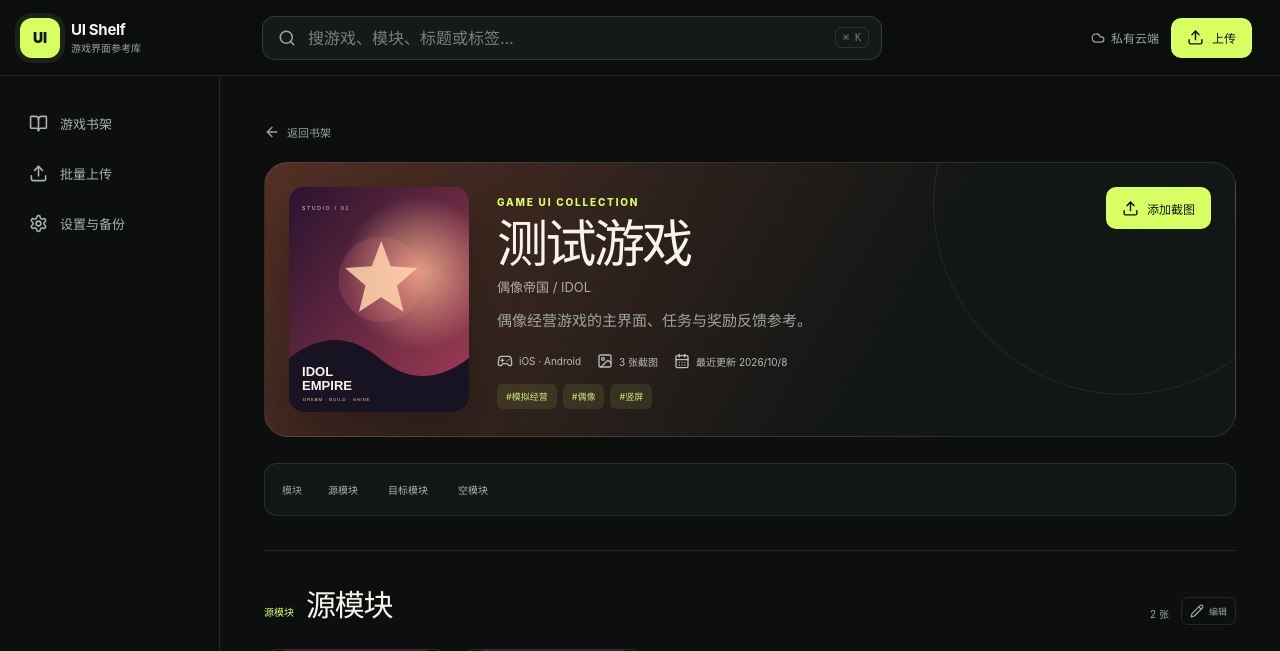
Test case: game image management › shares the mutation lock with metadata saving and releases it after failure
Click the button with aria-label "编辑 源模块模块": point(1208, 611) [1181, 597, 1236, 625]
(page scrolled)
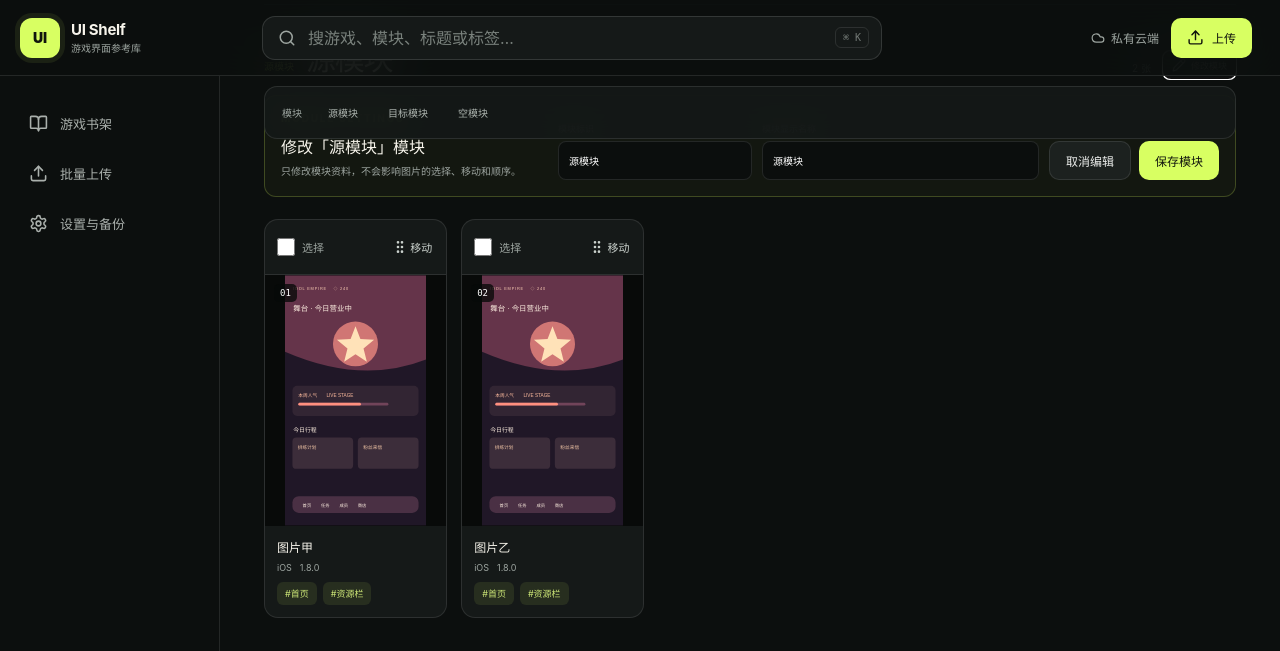
Click the button named "查看 图片甲": point(356, 400) [265, 274, 446, 526]
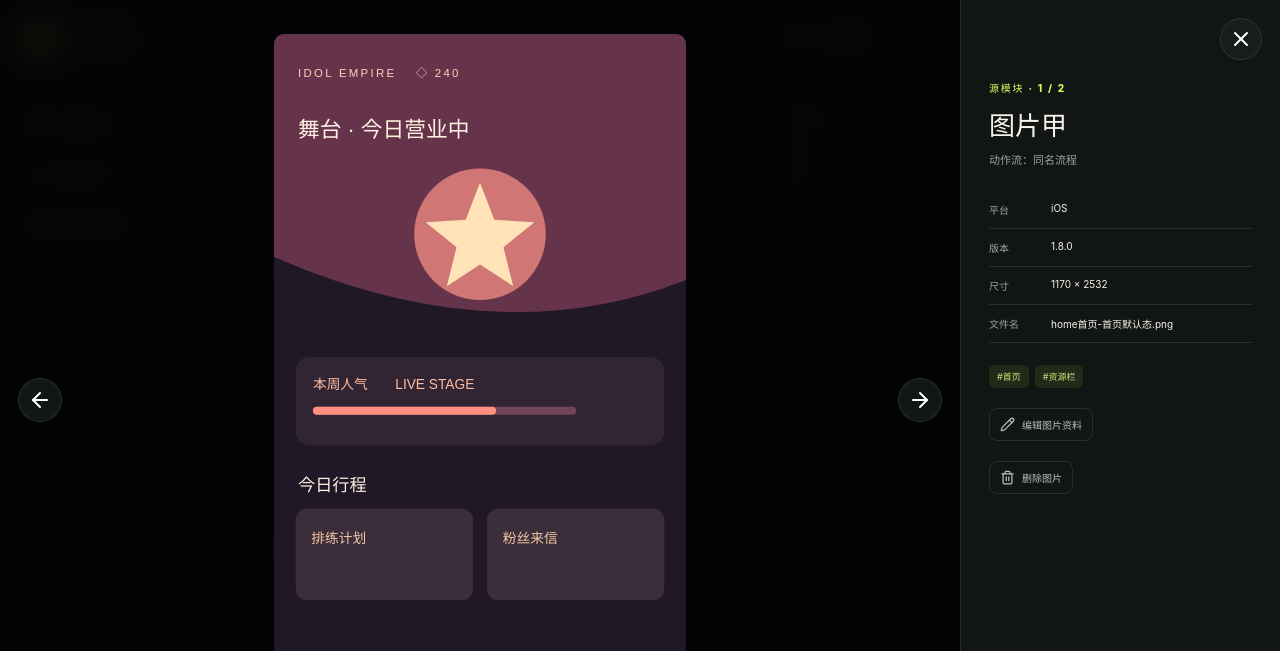
Click the button "编辑图片资料": point(1041, 424) [989, 408, 1093, 441]
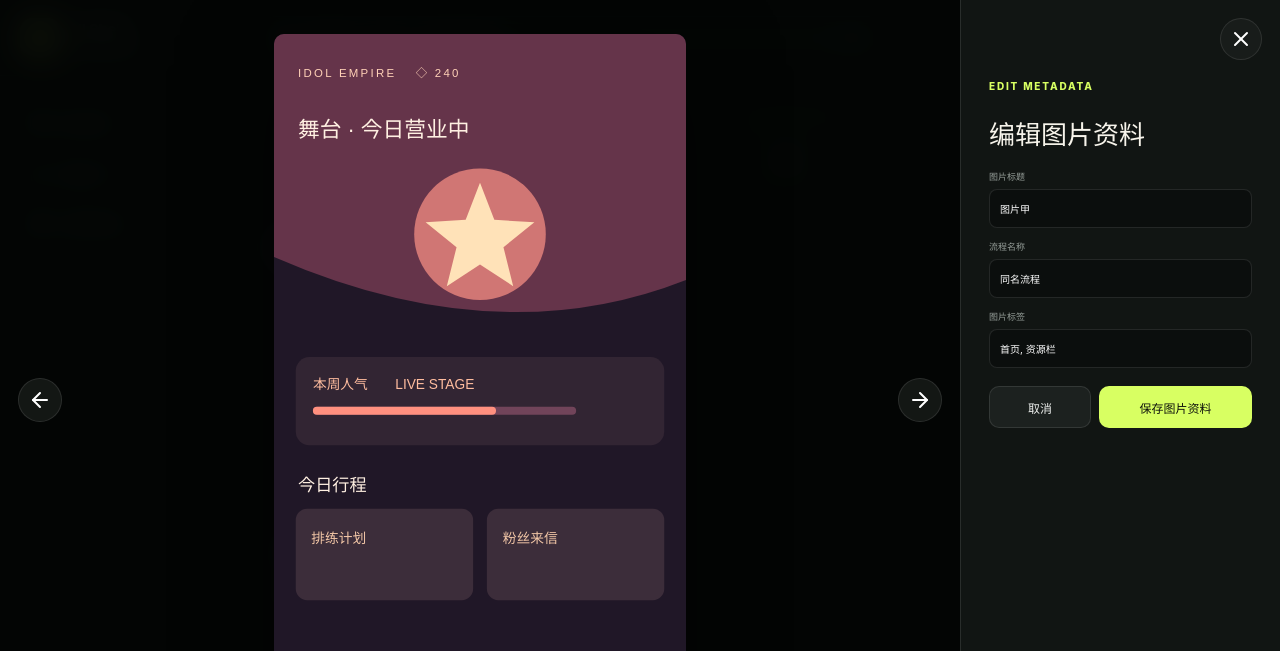
Click the button "保存图片资料": point(1176, 407) [1099, 386, 1252, 428]
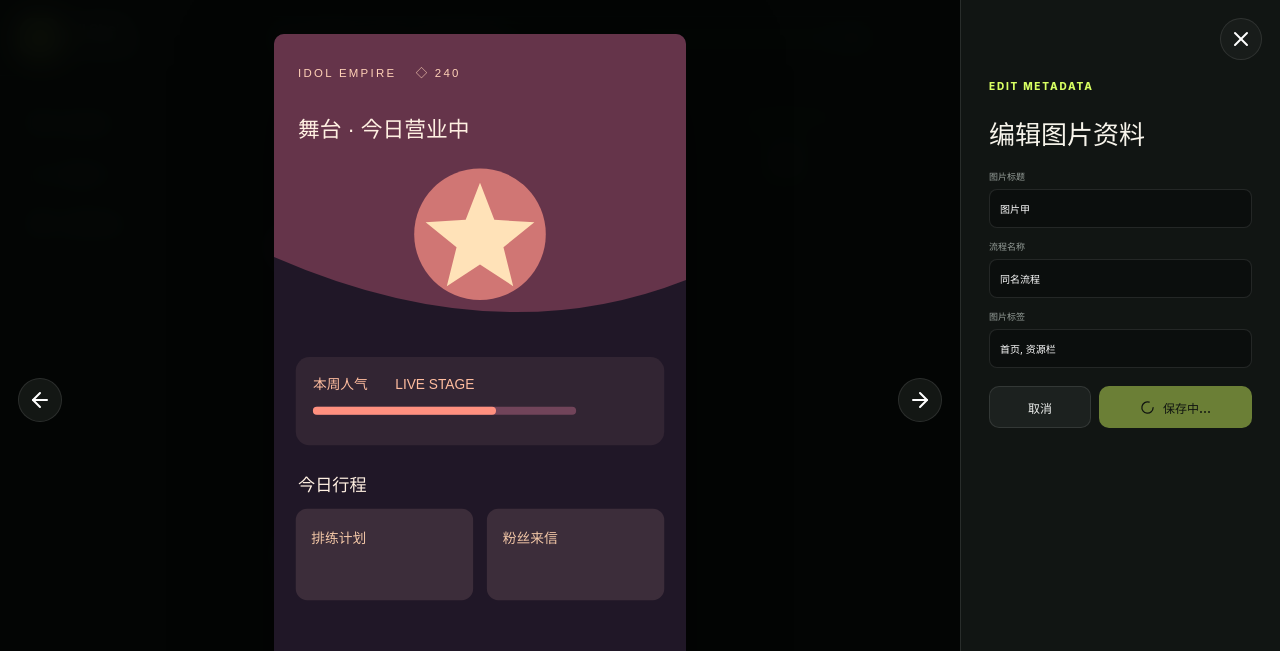
Click the button with aria-label "移动 图片甲 到模块或位置": point(412, 246) [386, 224, 438, 268]
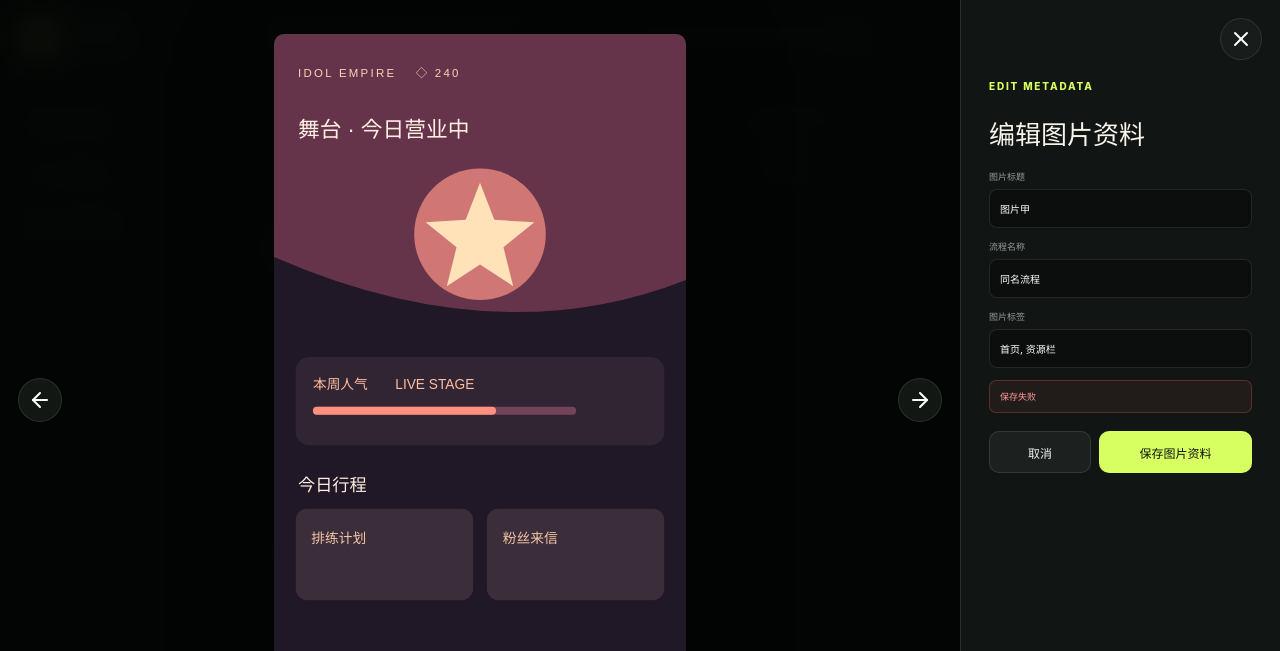
Expected: the message reads "保存失败", [1000, 391, 1036, 402]
Expected: the button "保存图片资料" is enabled, [1099, 431, 1252, 473]
